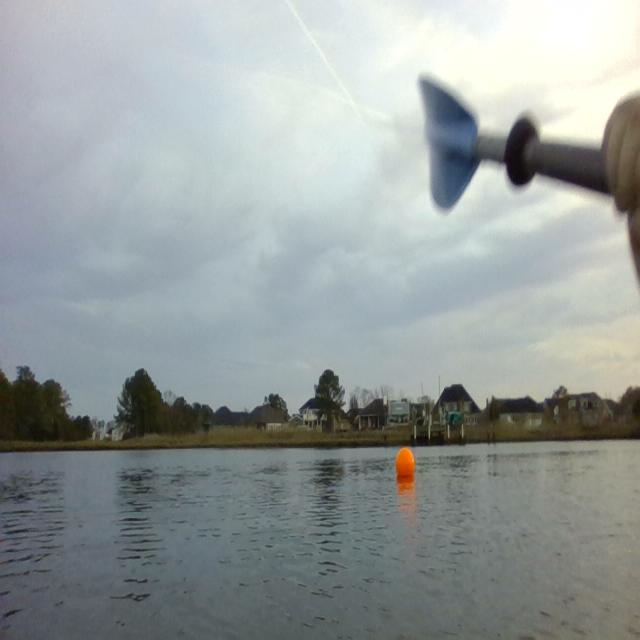Buoy: (395, 440, 419, 484)
